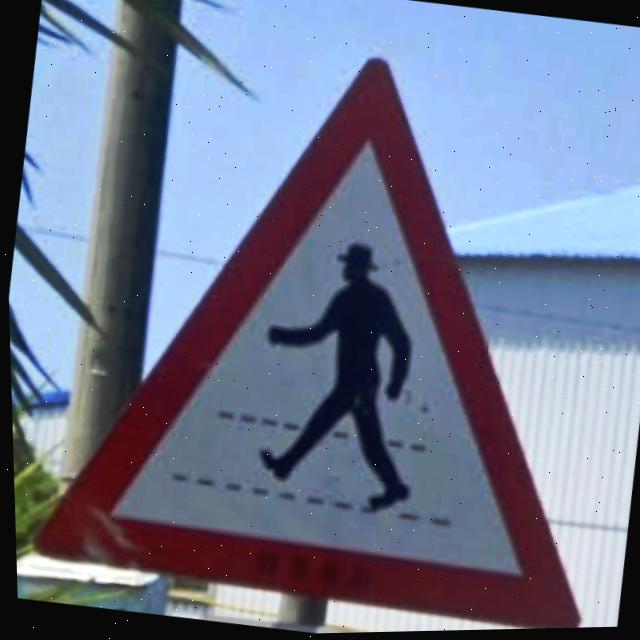pedestriancross: (32, 59, 579, 631)
